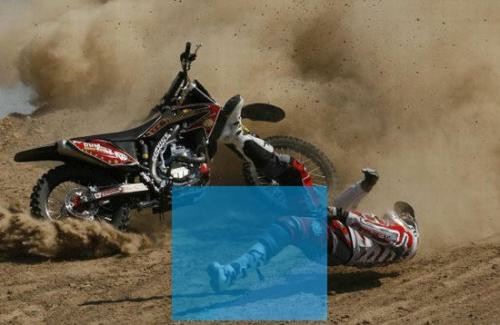fall: (185, 85, 426, 307)
